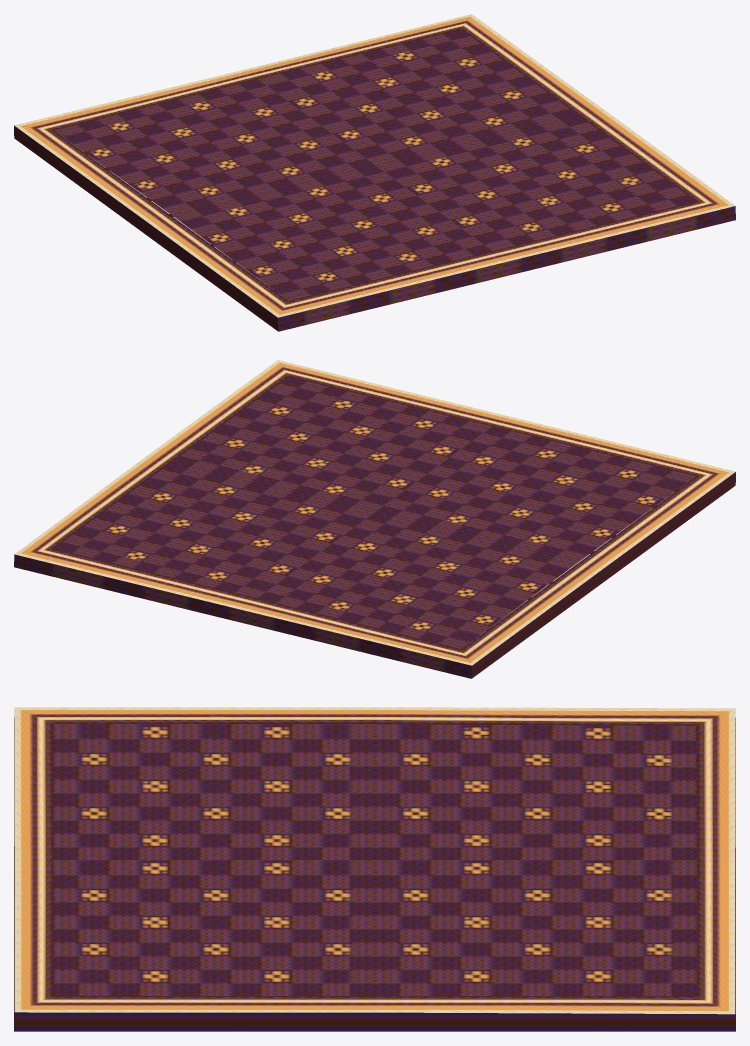
Rendered from ElevatorFloor.fbx.
3 renders of one model, top to bottom at view 1: azimuth 30°, elevation 25°; view 2: azimuth 150°, elevation 25°; view 3: azimuth 270°, elevation 25°, orthographic. The views are drawn at different scales.
Visible parts, largest first — view 1: Cube; view 2: Cube; view 3: Cube.
Boxes of the visible parts, box(x1,y1,x2,y2) form: Cube: box(14, 14, 735, 331); Cube: box(14, 360, 735, 678); Cube: box(14, 707, 735, 1031).
Size of the model in its own units: 6843 by 200 by 6838.
